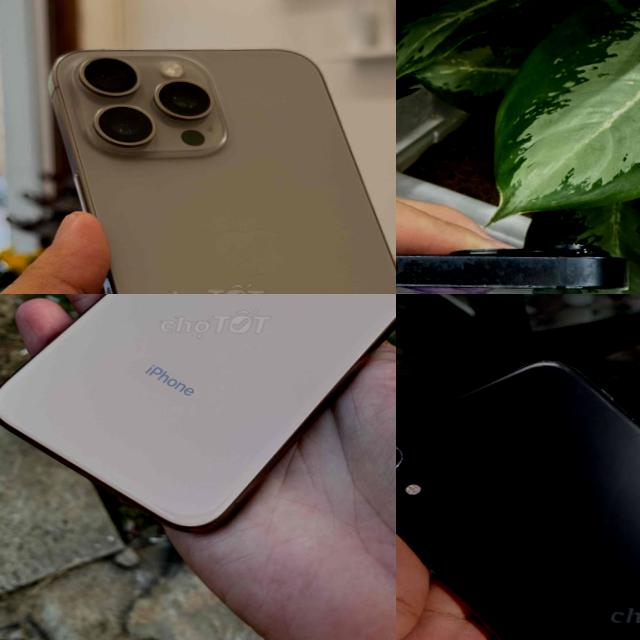gen_14: (396, 238, 640, 294)
gen_15: (40, 40, 396, 294)
gen_x_xs: (0, 294, 396, 534), (396, 361, 640, 640)
scratch: (396, 250, 634, 294), (396, 442, 419, 474)
